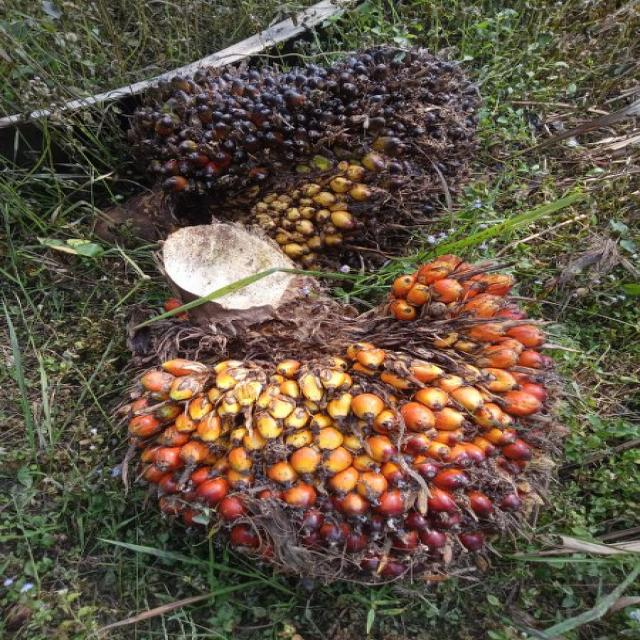fraksi 00: (90, 12, 509, 257)
fraksi 1: (104, 230, 613, 623)
